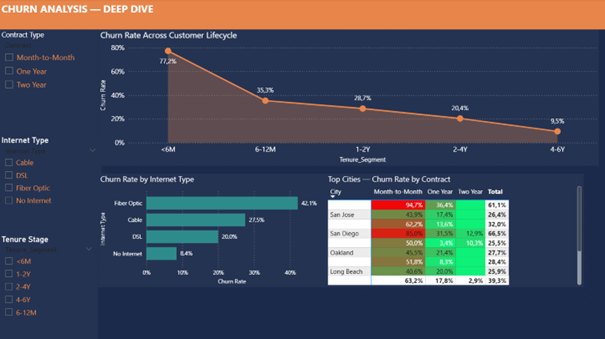

The dashboard page shown, as its layout file describes it:
{"tool":"powerbi","page":{"name":"Churn Analysis","canvas":[1280,720],"ordinal":1},"visuals":[{"type":"areaChart","title":"Churn Rate Across Customer Lifecycle","fields":{"Category":["telecom_clean_powerbi.Tenure_Segment"],"Y":["telecom_clean_powerbi.Churn Rate"]},"box":[208,64,1056,288],"z":0},{"type":"pivotTable","title":"Top Cities — Churn Rate by Contract","fields":{"Rows":["telecom_clean_powerbi.City"],"Columns":["telecom_clean_powerbi.Contract"],"Values":["telecom_clean_powerbi.Churn Rate"]},"box":[688,368,544,240],"z":1000},{"type":"slicer","title":"Contract Type","fields":{"Values":["telecom_clean_powerbi.Contract"]},"box":[0,64,208,224],"z":2000},{"type":"textbox","box":[0,0,1280,64],"z":3000},{"type":"slicer","title":"Internet Type","fields":{"Values":["telecom_clean_powerbi.Internet Type"]},"box":[0,288,216,216],"z":4000},{"type":"slicer","title":"Tenure Stage","fields":{"Values":["telecom_clean_powerbi.Tenure_Segment"]},"box":[0,496,208,224],"z":5000},{"type":"clusteredBarChart","title":"Churn Rate by Internet Type","fields":{"Category":["telecom_clean_powerbi.Internet Type"],"Y":["telecom_clean_powerbi.Churn Rate"]},"box":[208,368,480,240],"z":6000}]}

Visuals, with their boxes in screenshot pixels (x1, y1, x2, y2), scaled from the page's 1280x720 canvas onto the 605x339 screenshot:
"Churn Rate Across Customer Lifecycle" areaChart: <region>98, 30, 597, 166</region>
"Top Cities — Churn Rate by Contract" pivotTable: <region>325, 173, 582, 286</region>
"Contract Type" slicer: <region>0, 30, 98, 136</region>
textbox: <region>0, 0, 604, 30</region>
"Internet Type" slicer: <region>0, 136, 102, 237</region>
"Tenure Stage" slicer: <region>0, 234, 98, 338</region>
"Churn Rate by Internet Type" clusteredBarChart: <region>98, 173, 325, 286</region>
